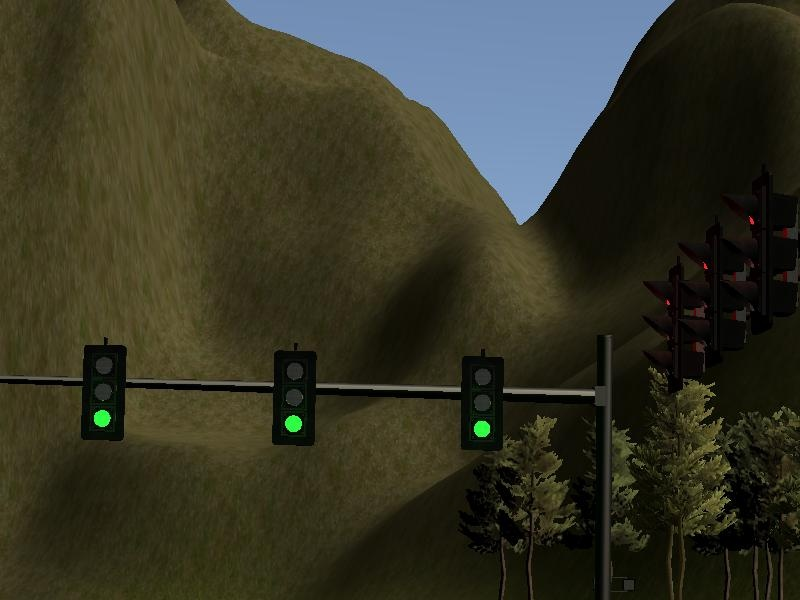GREEN: (460, 356, 504, 451), (271, 351, 315, 446), (81, 344, 125, 439)
